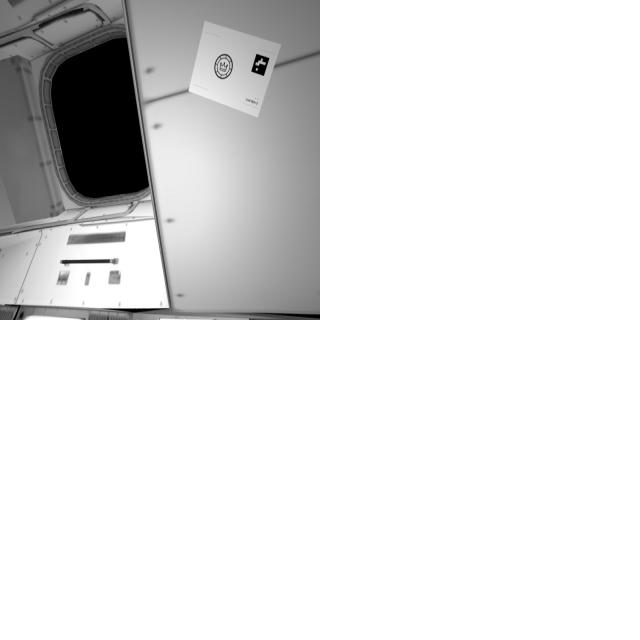coin: (214, 54, 235, 81)
